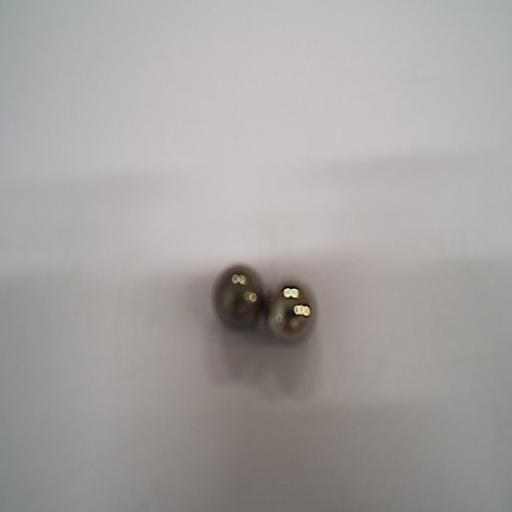steel-ball: (266, 278, 318, 343), (218, 265, 262, 332)
